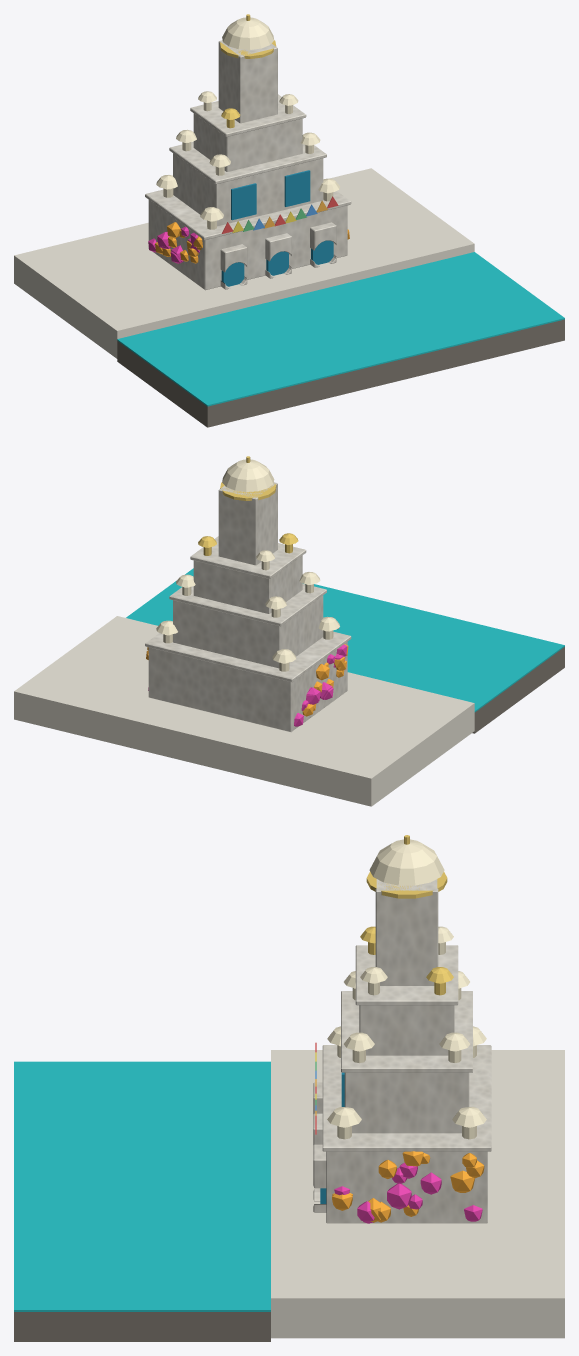
The model's file is udaipur_palace.glb.
3 renders of one model, top to bottom at view 1: azimuth 30°, elevation 25°; view 2: azimuth 150°, elevation 25°; view 3: azimuth 270°, elevation 25°, orthographic. The views are drawn at different scales.
Parts seen in each view (by area): view 1: LakeWater, LandPlinth, PalaceArchitecture, Lakebed, PalaceDomes; view 2: LandPlinth, PalaceArchitecture, LakeWater, PalaceDomes, Lakebed; view 3: LakeWater, LandPlinth, PalaceArchitecture, PalaceDomes, Lakebed.
Part boxes in pixels (x1=…): LakeWater: x1=117, y1=252, x2=564, y2=406; LandPlinth: x1=14, y1=168, x2=474, y2=358; PalaceArchitecture: x1=145, y1=40, x2=351, y2=290; Lakebed: x1=117, y1=319, x2=564, y2=427; PalaceDomes: x1=148, y1=14, x2=349, y2=286; LandPlinth: x1=14, y1=616, x2=474, y2=806; PalaceArchitecture: x1=145, y1=482, x2=351, y2=731; LakeWater: x1=126, y1=568, x2=564, y2=712; PalaceDomes: x1=146, y1=456, x2=348, y2=726; Lakebed: x1=472, y1=647, x2=564, y2=733; LakeWater: x1=14, y1=1061, x2=270, y2=1311; LandPlinth: x1=271, y1=1050, x2=564, y2=1338; PalaceArchitecture: x1=313, y1=879, x2=491, y2=1223; PalaceDomes: x1=315, y1=835, x2=486, y2=1223; Lakebed: x1=14, y1=1312, x2=270, y2=1341.
Size of the model in its own units: 16 by 11.46 by 15.
14 materials, 1 textured.
